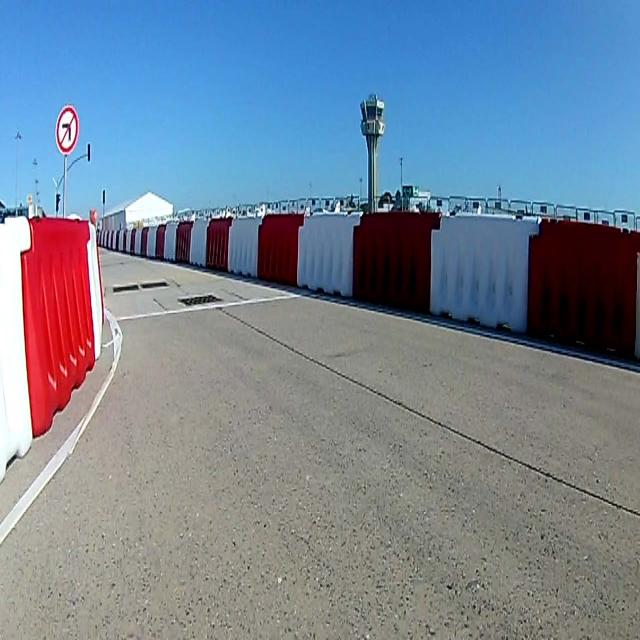soladonulmez: (56, 106, 78, 153)
